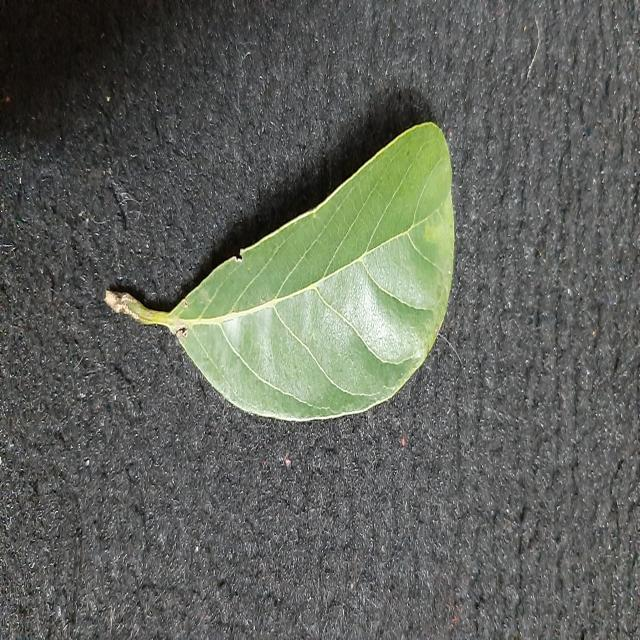seethaphala: (106, 122, 454, 420)
